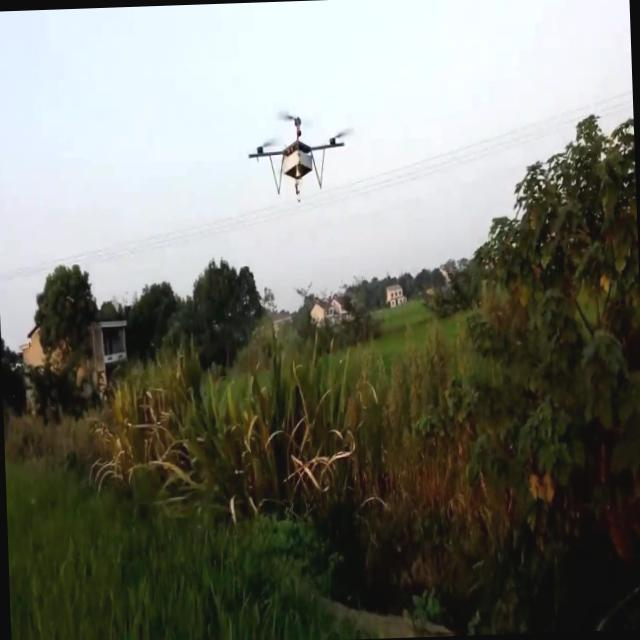drone: (245, 111, 355, 206)
